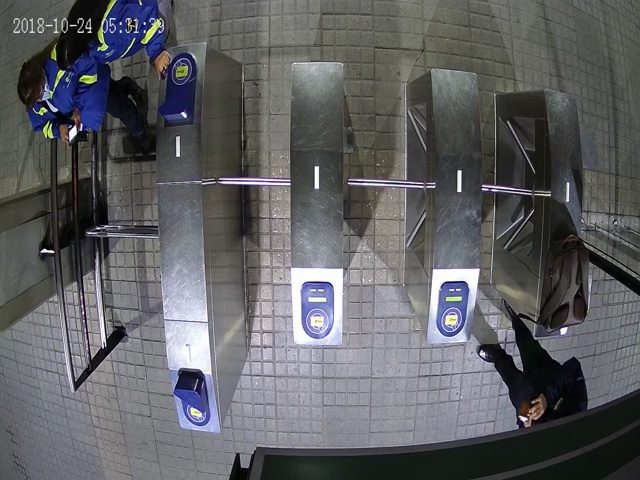Chaleco_azul: (18, 38, 148, 142), (54, 1, 172, 78)
